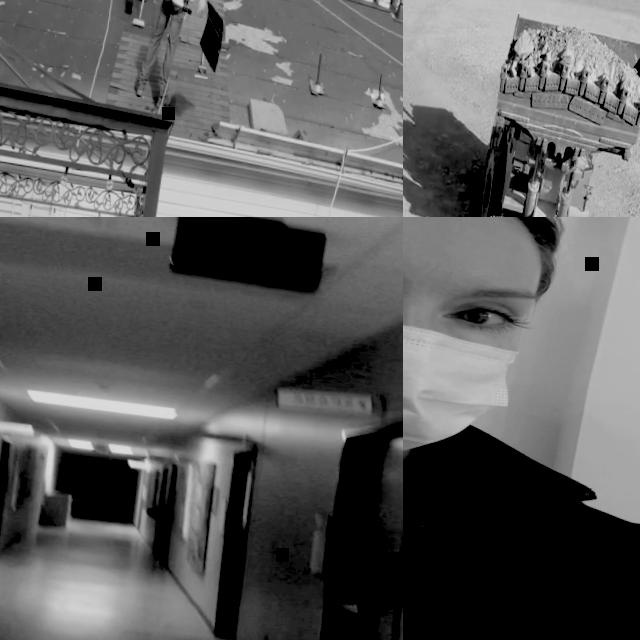Mask: (403, 300, 513, 464)
NO-Safety Vest: (403, 424, 640, 640)
Person: (403, 217, 640, 640), (133, 0, 216, 111)
machinery: (457, 5, 640, 217)
